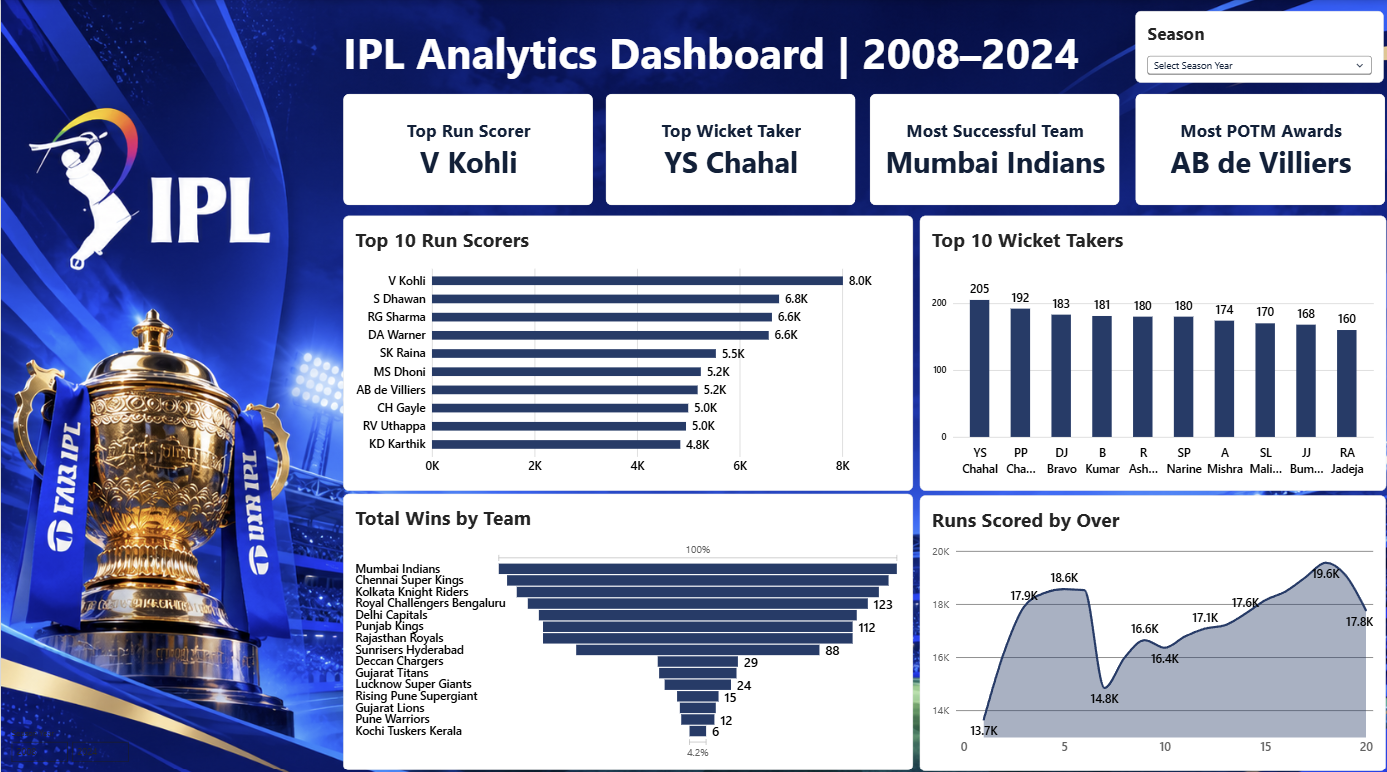

The page's visual inventory and layout, read from the dashboard file:
{"tool":"powerbi","page":{"name":"Page 2: Teams & Players","canvas":[1920,1080],"ordinal":1},"visuals":[{"type":"barChart","title":"Top 10 Run Scorers","fields":{"Category":["Deliveries.batter"],"Y":["Sum(Deliveries.batsman_runs)"]},"box":[472.5,297.5,787.5,380],"z":0},{"type":"cardVisual","fields":{"Data":["Deliveries.Top Run Scorer"]},"box":[473.4,130.4,345.4,154.6],"z":1000,"group":"g1"},{"type":"funnel","title":"Total Wins by Team","fields":{"Category":["Matches.winner"],"Y":["CountNonNull(Matches.id)"]},"box":[472.9,682.9,787.1,382.9],"z":1000},{"type":"clusteredColumnChart","title":"Top 10 Wicket Takers","fields":{"Category":["Deliveries.bowler"],"Y":["Deliveries.Bowler Wickets"]},"box":[1268.2,297.3,644.5,380],"z":2000},{"type":"cardVisual","fields":{"Data":["Deliveries.Top Wicket Taker"]},"box":[835.7,130.4,345.4,154.6],"z":3000,"group":"g1"},{"type":"areaChart","title":"Runs Scored by Over","fields":{"Category":["Deliveries.Over Number"],"Y":["Sum(Deliveries.total_runs)"]},"box":[1268.2,683.6,643.6,381.8],"z":3000},{"type":"textbox","box":[473.4,31.4,1038.7,99],"z":4000},{"type":"cardVisual","fields":{"Data":["Deliveries.Most Successful Team"]},"box":[1200.5,130.4,345.4,154.6],"z":4000,"group":"g1"},{"type":"slicer","fields":{"Values":["Matches.Season Year"]},"box":[7.2,1004.8,171.5,60.4],"z":5000},{"type":"group","id":"g1","title":"Group 1","box":[473.4,130.4,1439.6,154.6],"z":6000},{"type":"listSlicer","title":"Season ","fields":{"Values":["Matches.Season Year"]},"box":[1567.6,14.5,343,99],"z":7000},{"type":"cardVisual","fields":{"Data":["Deliveries.Top Player of the Match"]},"box":[1567.6,130.4,345.4,154.6],"z":7000,"group":"g1"}]}

Visuals, with their boxes in screenshot pixels (x1, y1, x2, y2), scaled from the page's 1920x1080 canvas onto the 1387x772 screenshot:
"Top 10 Run Scorers" barChart: x1=341, y1=213, x2=910, y2=484
cardVisual - Deliveries.Top Run Scorer: x1=342, y1=93, x2=591, y2=204
"Total Wins by Team" funnel: x1=342, y1=488, x2=910, y2=762
"Top 10 Wicket Takers" clusteredColumnChart: x1=916, y1=213, x2=1382, y2=484
cardVisual - Deliveries.Top Wicket Taker: x1=604, y1=93, x2=853, y2=204
"Runs Scored by Over" areaChart: x1=916, y1=489, x2=1381, y2=762
textbox: x1=342, y1=22, x2=1092, y2=93
cardVisual - Deliveries.Most Successful Team: x1=867, y1=93, x2=1117, y2=204
slicer - Matches.Season Year: x1=5, y1=718, x2=129, y2=761
"Group 1" group: x1=342, y1=93, x2=1382, y2=204
"Season " listSlicer: x1=1132, y1=10, x2=1380, y2=81
cardVisual - Deliveries.Top Player of the Match: x1=1132, y1=93, x2=1382, y2=204
